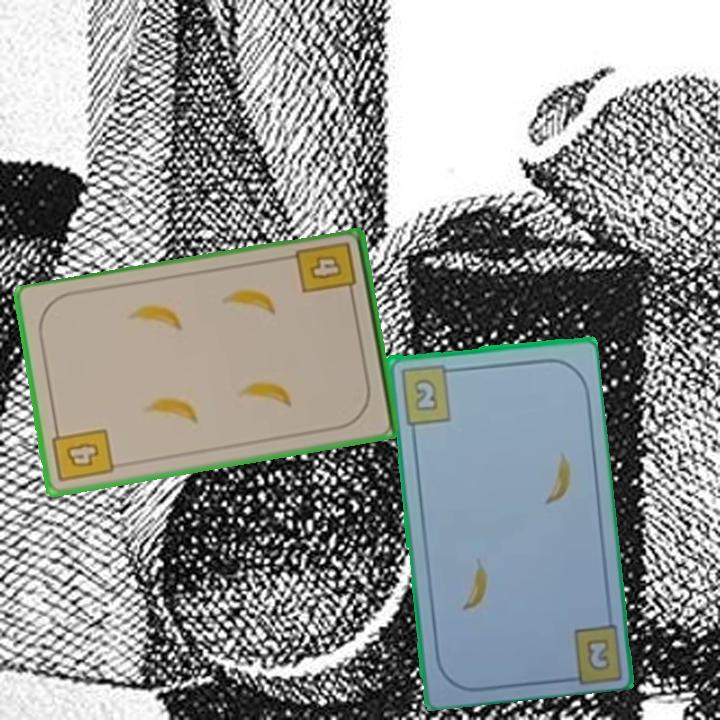2b: (396, 361, 458, 426), (582, 634, 614, 674)
4b: (293, 238, 360, 303), (49, 422, 117, 486)
